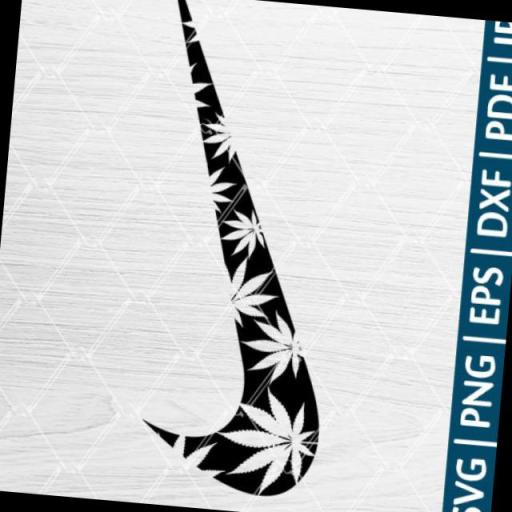Nike: (123, 0, 356, 501)
